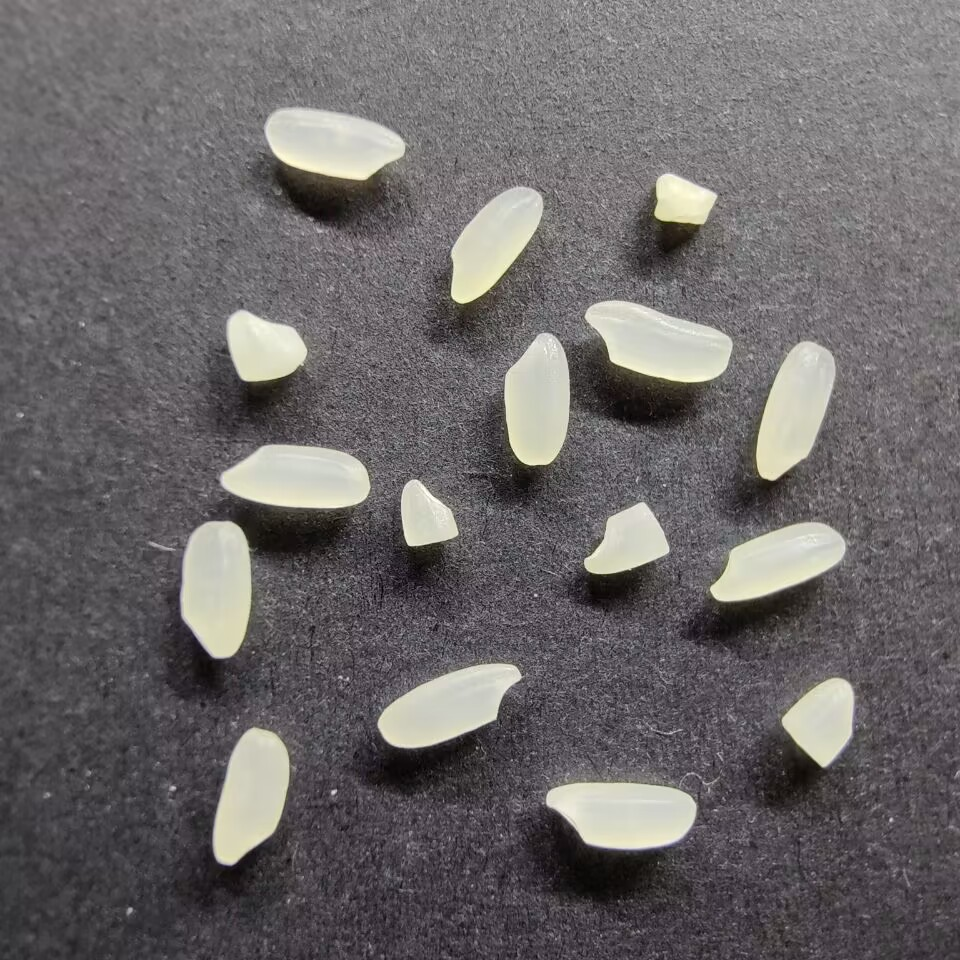broken: (778, 675, 858, 769), (581, 498, 673, 576), (223, 305, 307, 382), (397, 476, 461, 549), (651, 172, 719, 226)
rice: (375, 660, 523, 750), (583, 299, 734, 385), (751, 339, 838, 480), (447, 184, 546, 305), (707, 520, 847, 603), (210, 726, 290, 867), (217, 442, 371, 512), (543, 780, 697, 850), (263, 106, 406, 181), (178, 519, 254, 660), (501, 330, 572, 466)
